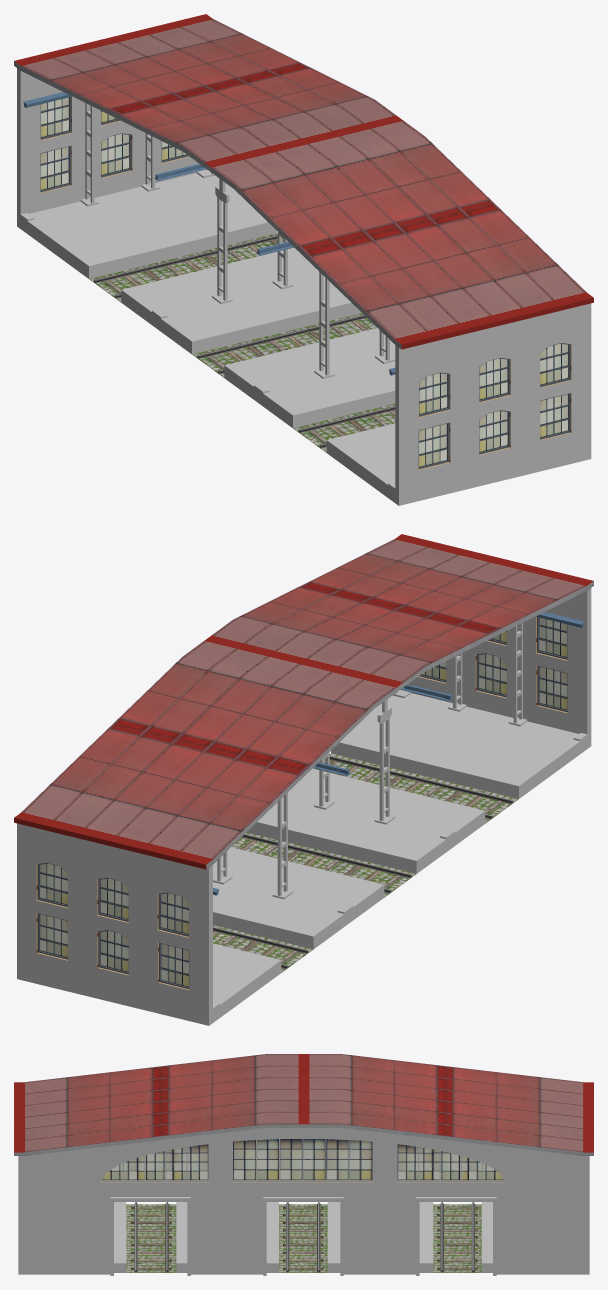
The model's file is HangarBig01a.FBX.
3 views of the same model, one above another, from view 1: azimuth 30°, elevation 25°; view 2: azimuth 150°, elevation 25°; view 3: azimuth 270°, elevation 25° (orthographic). The views are drawn at different scales.
Visible parts, largest first — view 1: HangarBig01_Roof01, HangarBig01_Floor, HangarBig01_Wall01a1, HangarBig01_Window2, HangarBig01_RailFloor, HangarBig01_Railway, HangarBig01_Carcass01_1, HangarBig01_WindowMtl, HangarBig01_WindowMtl2, HangarBig01_Carcass01, HangarBig01_Border_a, HangarBig01_Carcass03a1; view 2: HangarBig01_Roof01, HangarBig01_Floor, HangarBig01_Wall01a1, HangarBig01_Window2, HangarBig01_RailFloor, HangarBig01_Railway, HangarBig01_Carcass01_1, HangarBig01_WindowMtl, HangarBig01_WindowMtl2, HangarBig01_Carcass01, HangarBig01_Border_a, HangarBig01_Carcass03a1; view 3: HangarBig01_Wall01a, HangarBig01_Roof01, HangarBig01_Wind01, HangarBig01_RailFloor, HangarBig01_Floor, HangarBig01_Railway, HangarBig01_DoorMtl, HangarBig01_Wind01Mtl, HangarBig01_Wall01a1, HangarBig01_Wind01Mtl1.
Boxes of the visible parts, x1=… form: HangarBig01_Roof01: x1=14, y1=14, x2=593, y2=349; HangarBig01_Floor: x1=20, y1=173, x2=395, y2=502; HangarBig01_Wall01a1: x1=17, y1=68, x2=591, y2=505; HangarBig01_Window2: x1=40, y1=97, x2=568, y2=467; HangarBig01_RailFloor: x1=89, y1=233, x2=395, y2=452; HangarBig01_Railway: x1=93, y1=235, x2=395, y2=448; HangarBig01_Carcass01_1: x1=215, y1=178, x2=389, y2=375; HangarBig01_WindowMtl: x1=40, y1=97, x2=570, y2=469; HangarBig01_WindowMtl2: x1=40, y1=101, x2=568, y2=464; HangarBig01_Carcass01: x1=85, y1=103, x2=212, y2=203; HangarBig01_Border_a: x1=152, y1=278, x2=395, y2=393; HangarBig01_Carcass03a1: x1=154, y1=164, x2=293, y2=255; HangarBig01_Roof01: x1=14, y1=534, x2=593, y2=869; HangarBig01_Floor: x1=212, y1=693, x2=587, y2=1022; HangarBig01_Wall01a1: x1=17, y1=588, x2=591, y2=1025; HangarBig01_Window2: x1=39, y1=617, x2=567, y2=986; HangarBig01_RailFloor: x1=213, y1=753, x2=518, y2=972; HangarBig01_Railway: x1=213, y1=755, x2=513, y2=968; HangarBig01_Carcass01_1: x1=217, y1=699, x2=391, y2=895; HangarBig01_WindowMtl: x1=37, y1=617, x2=567, y2=989; HangarBig01_WindowMtl2: x1=39, y1=621, x2=567, y2=983; HangarBig01_Carcass01: x1=395, y1=623, x2=522, y2=723; HangarBig01_Border_a: x1=213, y1=799, x2=455, y2=913; HangarBig01_Carcass03a1: x1=313, y1=684, x2=452, y2=776; HangarBig01_Wall01a: x1=23, y1=1128, x2=584, y2=1274; HangarBig01_Roof01: x1=14, y1=1054, x2=593, y2=1155; HangarBig01_Wind01: x1=102, y1=1139, x2=502, y2=1180; HangarBig01_RailFloor: x1=126, y1=1204, x2=481, y2=1272; HangarBig01_Floor: x1=114, y1=1202, x2=492, y2=1272; HangarBig01_Railway: x1=131, y1=1202, x2=477, y2=1272; HangarBig01_DoorMtl: x1=110, y1=1197, x2=496, y2=1275; HangarBig01_Wind01Mtl: x1=100, y1=1138, x2=505, y2=1181; HangarBig01_Wall01a1: x1=18, y1=1156, x2=589, y2=1274; HangarBig01_Wind01Mtl1: x1=122, y1=1139, x2=482, y2=1180.
Size of the model in its own units: 662 by 649 by 2269.
